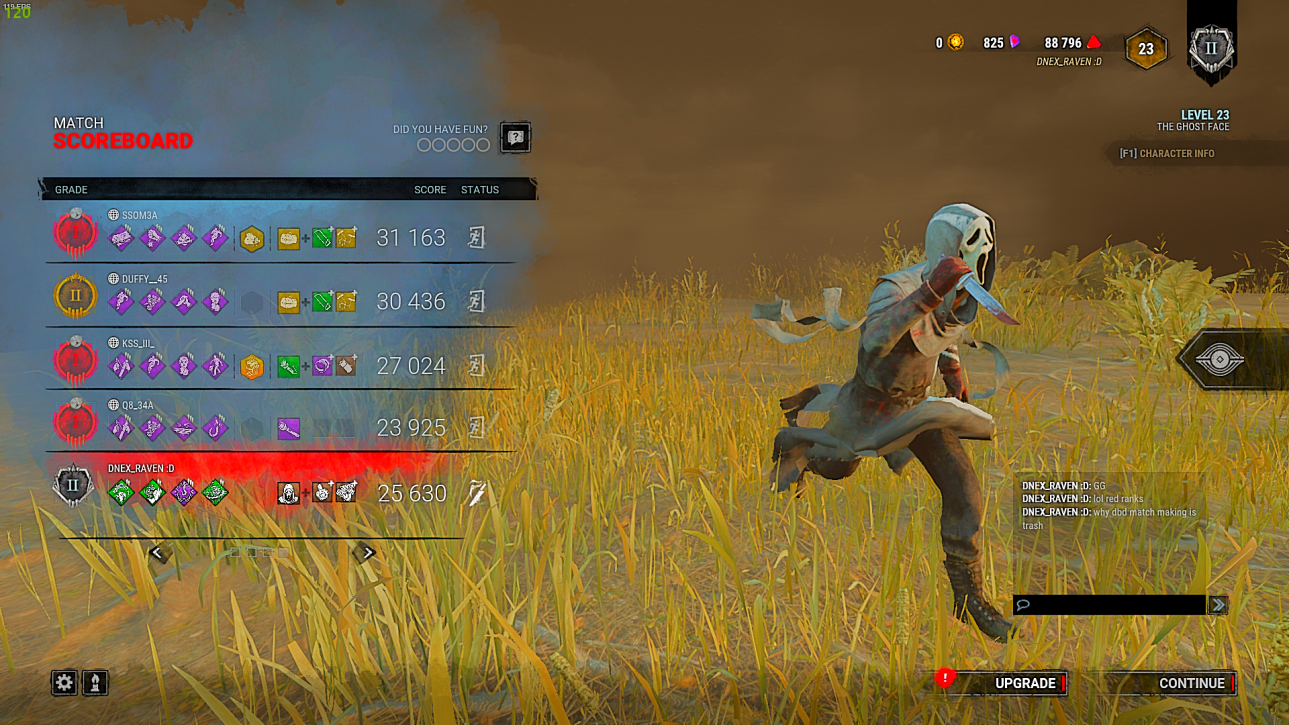autodidact: (106, 223, 135, 252)
borrowed_time: (137, 223, 166, 252)
breakout: (137, 287, 166, 316), (137, 414, 166, 443)
built_to_last: (106, 351, 135, 380), (106, 414, 135, 443)
dead_hard: (200, 223, 229, 252), (106, 287, 135, 316), (137, 351, 166, 380)
decisive_strike: (168, 287, 197, 316)
furtive_chase: (169, 478, 198, 507)
iron_will: (169, 222, 198, 251)
jolt: (201, 477, 230, 506)
resilience: (200, 287, 229, 316), (169, 351, 198, 380)
sabotuer: (201, 414, 230, 443)
thrilling_tremors: (105, 478, 134, 507)
were_gonna_live_forever: (200, 351, 229, 380)
whispers: (138, 478, 167, 507)
windows_of_opportunity: (169, 414, 198, 443)
